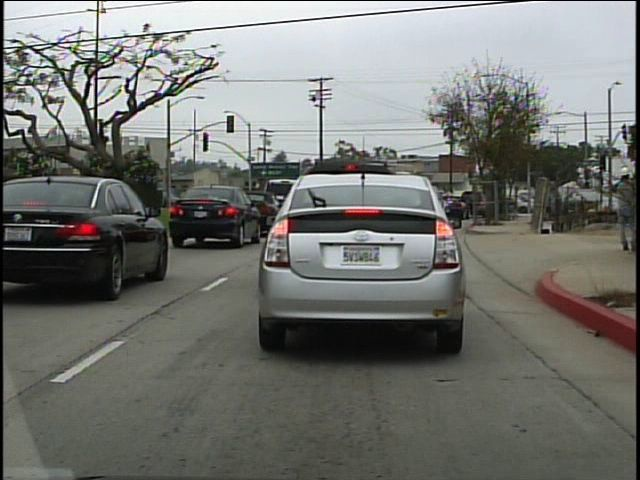person: (611, 158, 636, 257)
